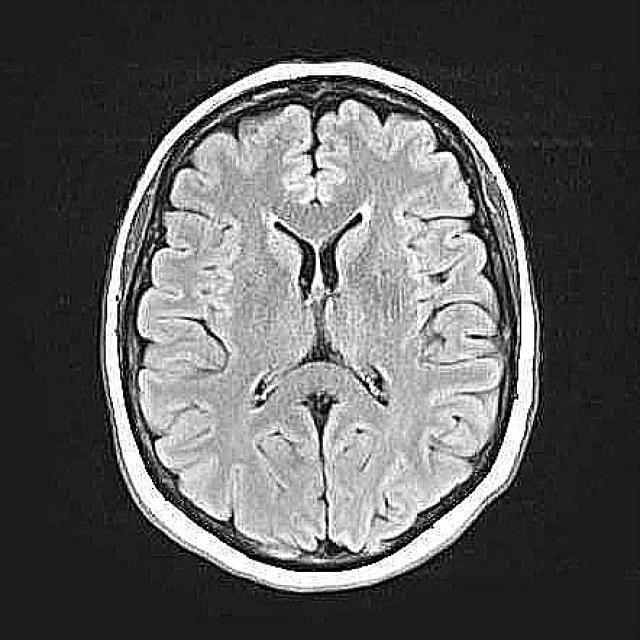notumor: (100, 62, 543, 597)
